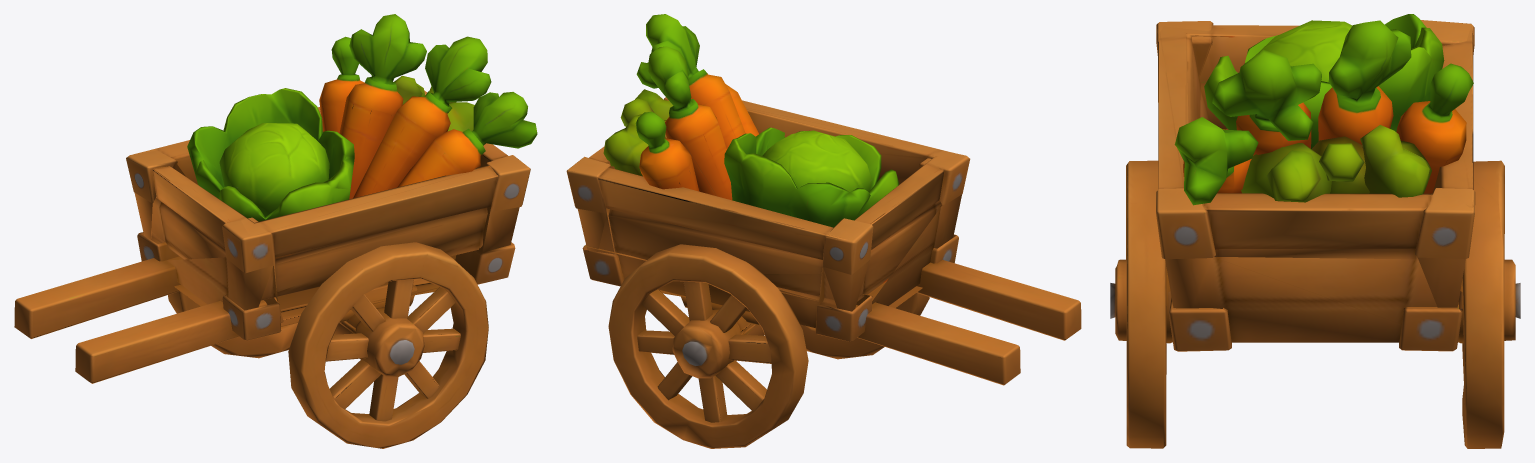
The model's file is cart_barrow.glb.
The picture shows the model from 3 angles, left to right: view 1: azimuth 30°, elevation 25°; view 2: azimuth 150°, elevation 25°; view 3: azimuth 270°, elevation 25°; orthographic projection. The views are drawn at different scales.
Visible parts, largest first — view 1: geometry_0; view 2: geometry_0; view 3: geometry_0.
Boxes of the visible parts, <box> form: geometry_0: <box>14,14,537,448</box>; geometry_0: <box>566,14,1081,448</box>; geometry_0: <box>1110,14,1520,448</box>.
Bounding box in the file's own units: 0.9575 × 0.7139 × 0.5659.
1 material, 1 textured.
